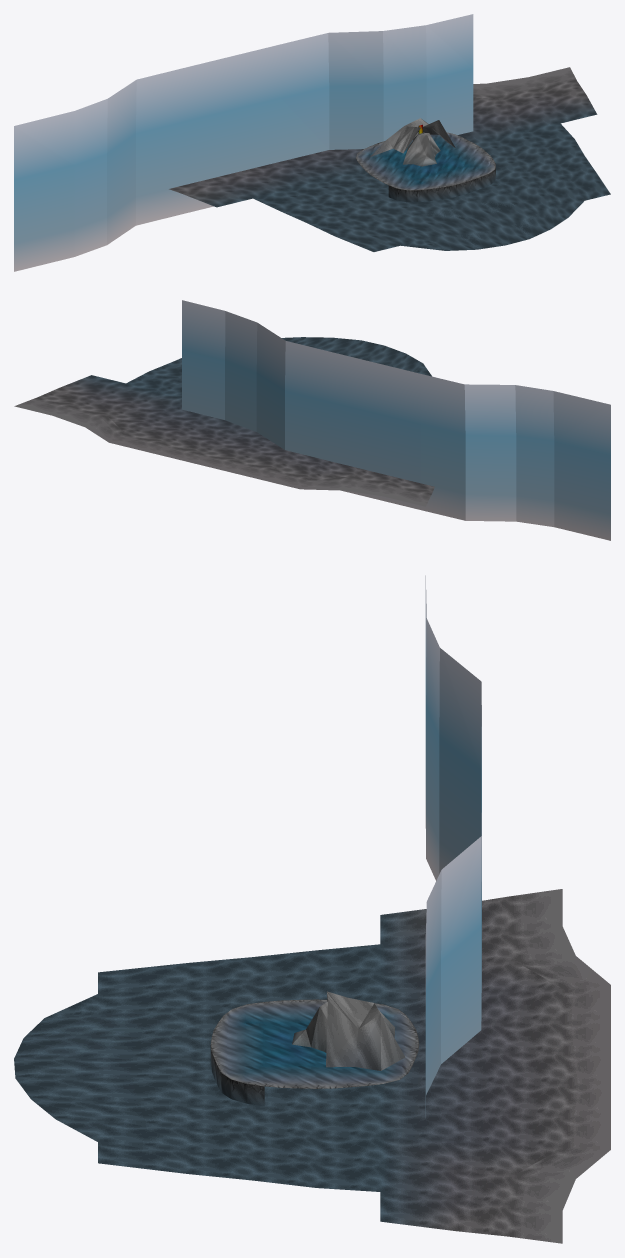
3 views of the same model, one above another, from view 1: azimuth 30°, elevation 25°; view 2: azimuth 150°, elevation 25°; view 3: azimuth 270°, elevation 25° (orthographic). The views are drawn at different scales.
Parts seen in each view (by area): view 1: extra_2828, extra_2b80, extra_18e4, extra_34e8, part2, part1; view 2: extra_2828, extra_2b80; view 3: extra_2b80, extra_2828, extra_18e4, part2, extra_34e8, part1.
Part boxes in pixels (x1,y1,x2,y2): extra_2828: (14, 14, 473, 271); extra_2b80: (169, 67, 610, 251); extra_18e4: (356, 132, 495, 190); extra_34e8: (388, 166, 495, 202); part2: (370, 118, 455, 156); part1: (403, 126, 440, 166); extra_2828: (182, 300, 610, 540); extra_2b80: (14, 337, 434, 506); extra_2b80: (14, 889, 610, 1243); extra_2828: (425, 575, 481, 1117); extra_18e4: (210, 999, 419, 1088); part2: (326, 991, 405, 1070); extra_34e8: (210, 1045, 264, 1106); part1: (292, 1002, 366, 1052).
Size of the model in its own units: 26.97 by 6.31 by 14.14.
Materials: 28 (26 with a texture image).
